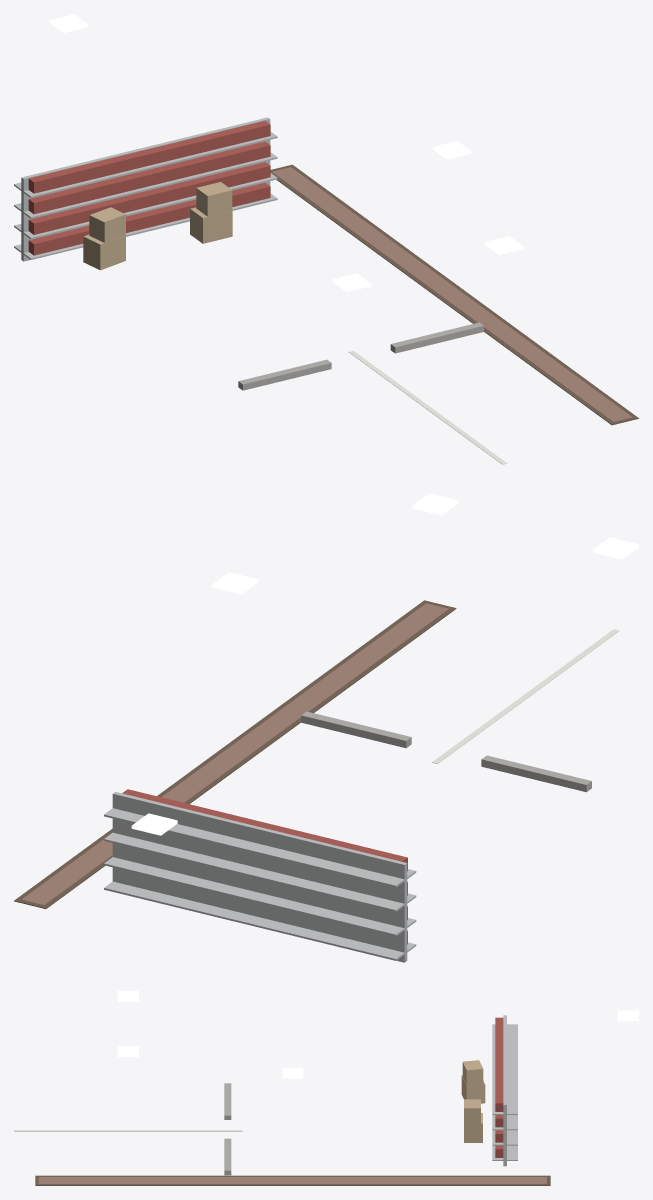
Rendered from fine-s0.glb.
3 views of the same model, one above another, from view 1: azimuth 30°, elevation 25°; view 2: azimuth 150°, elevation 25°; view 3: azimuth 270°, elevation 25° (orthographic). The views are drawn at different scales.
Visible parts, largest first — view 1: soft-s0, shelving.000, shelving.001, shelving.002, cardboard-box.000, crate.000; view 2: soft-s0, shelving.000, shelving.002, shelving.001, ceiling-lamp.003, ceiling-lamp.000, ceiling-lamp.001, ceiling-lamp.002; view 3: soft-s0, shelving.002, cardboard-box.000, shelving.000, crate.000, shelving.001.
Part boxes in pixels (x1,y1,x2,y2): soft-s0: [238, 164, 638, 464]; shelving.000: [14, 156, 119, 261]; shelving.001: [102, 136, 198, 236]; shelving.002: [181, 117, 277, 219]; cardboard-box.000: [83, 207, 125, 270]; crate.000: [190, 182, 232, 243]; soft-s0: [14, 600, 619, 908]; shelving.000: [291, 834, 416, 962]; shelving.002: [104, 789, 220, 914]; shelving.001: [197, 812, 313, 937]; ceiling-lamp.003: [412, 493, 458, 515]; ceiling-lamp.000: [212, 572, 258, 594]; ceiling-lamp.001: [131, 813, 177, 835]; ceiling-lamp.002: [593, 537, 638, 559]; soft-s0: [14, 1083, 550, 1185]; shelving.002: [492, 1072, 517, 1166]; cardboard-box.000: [461, 1060, 485, 1103]; shelving.000: [492, 1015, 517, 1056]; crate.000: [464, 1099, 482, 1142]; shelving.001: [492, 1046, 517, 1085].
Size of the model in its own units: 6.1 by 2.83 by 14.76.
